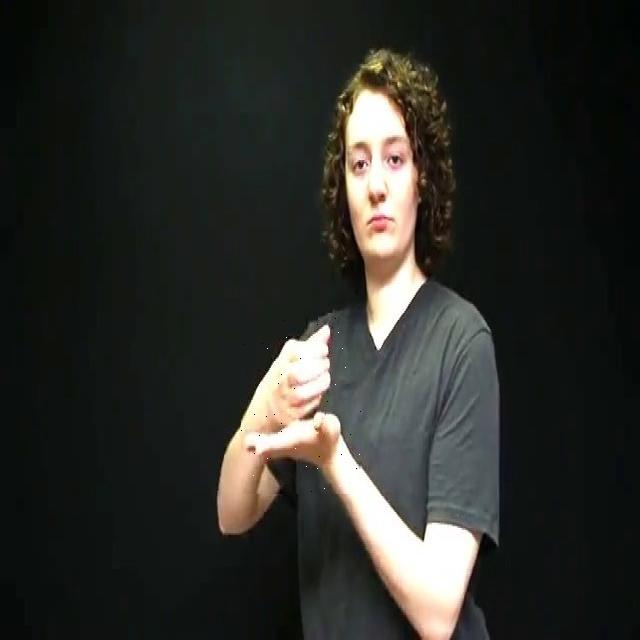cup: (242, 316, 362, 494)
